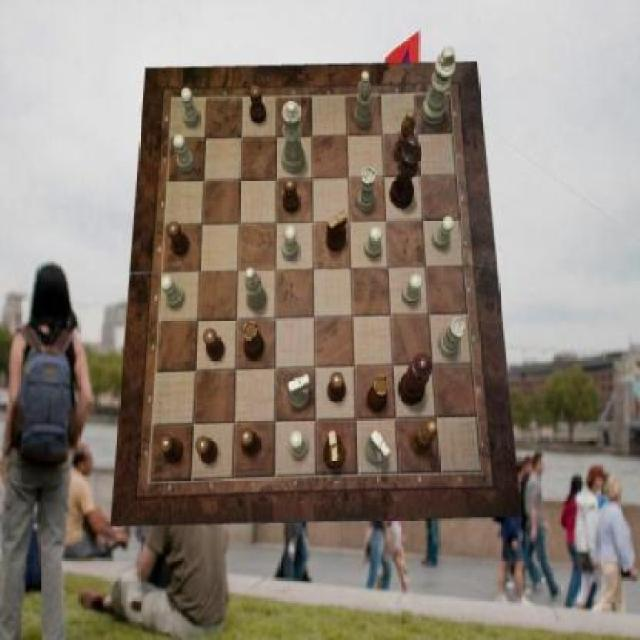bishop: (392, 110, 415, 164), (410, 420, 438, 456)
black-bishop: (389, 135, 422, 210)
black-king: (324, 431, 346, 471), (326, 211, 347, 252)
black-knight: (168, 222, 190, 256), (204, 329, 226, 362), (250, 86, 268, 125), (158, 437, 182, 465), (195, 437, 218, 465), (240, 429, 261, 457), (283, 177, 300, 211), (328, 372, 345, 403)
black-pawn: (398, 354, 434, 408)
black-queen: (366, 375, 389, 414), (243, 322, 265, 362)
black-rook: (245, 268, 268, 312), (354, 71, 371, 128)
white-bishop: (423, 48, 457, 128)
white-king: (366, 429, 391, 464), (288, 374, 310, 408)
white-knight: (162, 275, 186, 310), (173, 134, 194, 172), (432, 217, 455, 251), (182, 88, 200, 128), (283, 224, 300, 260), (403, 274, 423, 304), (365, 228, 382, 260), (290, 431, 308, 458)
white-pawn: (282, 100, 306, 174)
white-queen: (438, 318, 466, 358), (357, 168, 376, 213)
